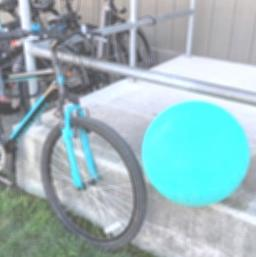algae: (140, 96, 251, 205)
